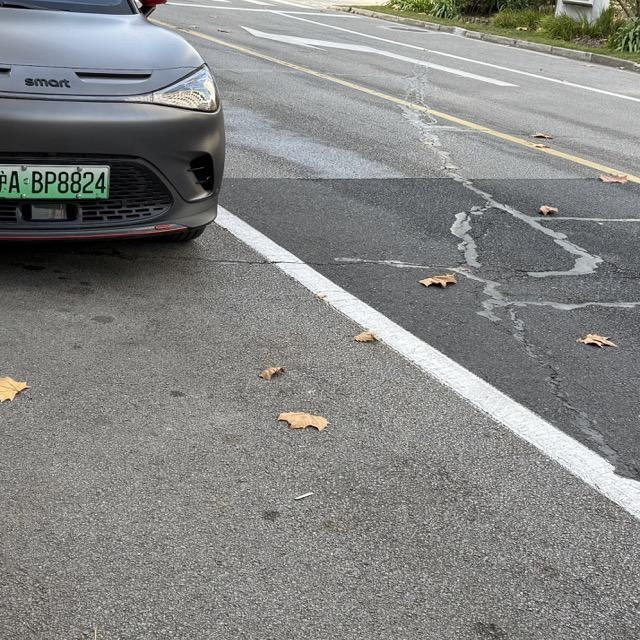curb: (350, 10, 639, 73)
